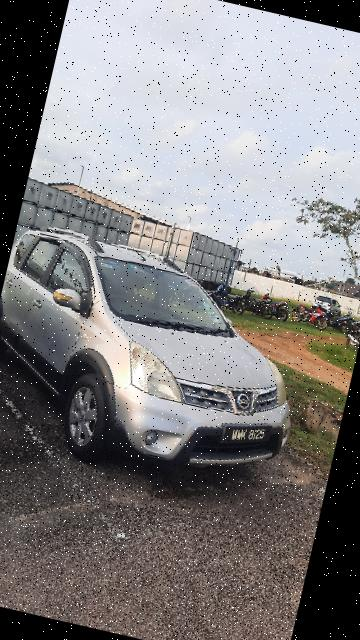License_Plate: (217, 412, 278, 457)
car: (1, 211, 329, 512)
